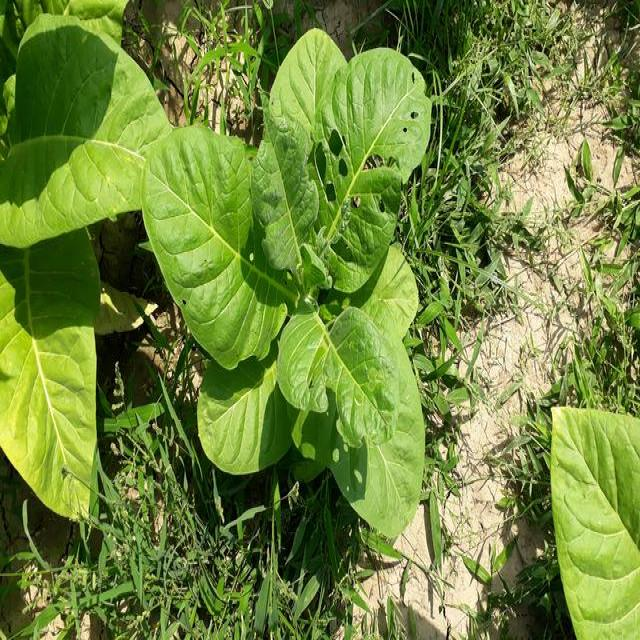crop: (138, 23, 436, 534), (0, 0, 163, 516), (549, 405, 639, 640)
